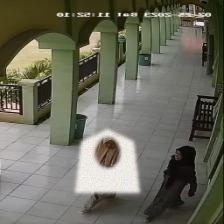Mukena: (75, 129, 139, 192)
